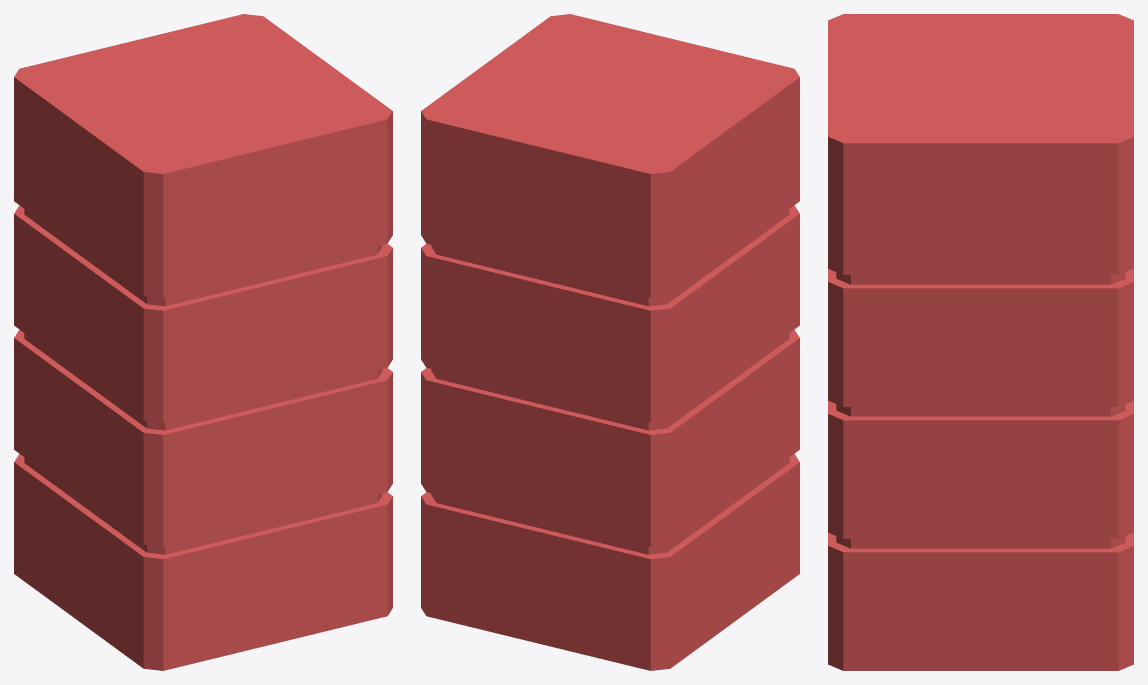
File: building.fbx
The picture shows the model from 3 angles, left to right: view 1: azimuth 30°, elevation 25°; view 2: azimuth 150°, elevation 25°; view 3: azimuth 270°, elevation 25°; orthographic projection. The views are drawn at different scales.
Visible parts, largest first — view 1: building2; view 2: building2; view 3: building2.
Part boxes in pixels (x1=…): building2: x1=14, y1=14, x2=392, y2=670; building2: x1=421, y1=14, x2=799, y2=670; building2: x1=828, y1=14, x2=1133, y2=670.
Size of the model in its own units: 630 by 1200 by 630.
